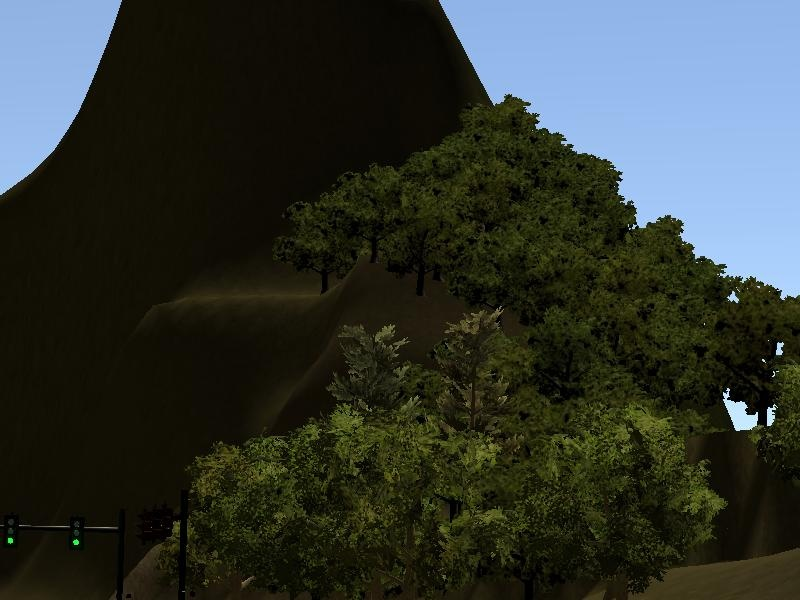GREEN: (68, 511, 83, 551), (3, 511, 19, 548)
